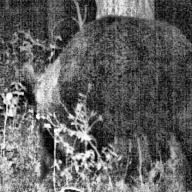boar: (26, 12, 191, 166)
